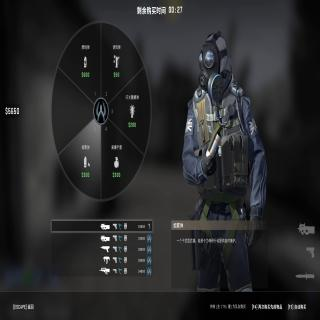CT-Head: (198, 30, 228, 100)
